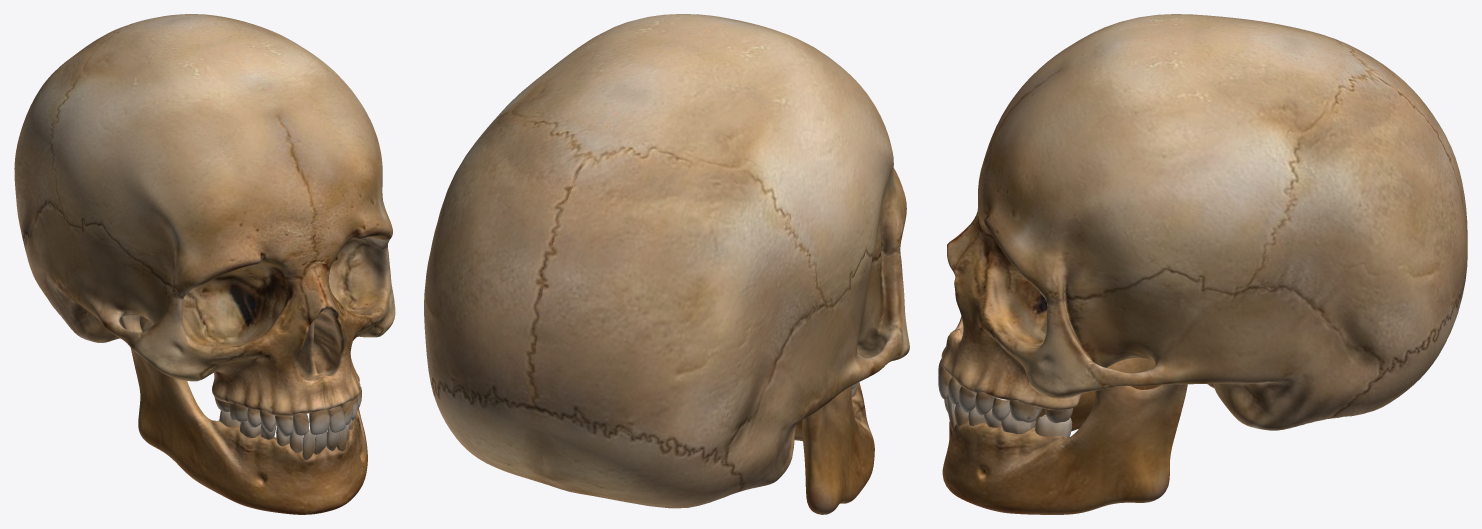
Rendered from human_skull.glb.
3 renders of one model, left to right at view 1: azimuth 30°, elevation 25°; view 2: azimuth 150°, elevation 25°; view 3: azimuth 270°, elevation 25°, orthographic. The views are drawn at different scales.
Parts seen in each view (by area): view 1: Object_2, Object_3, Object_4, Object_5; view 2: Object_2, Object_3; view 3: Object_2, Object_3, Object_4, Object_5.
Boxes of the visible parts, bbox=[...] form: Object_2: bbox=[14, 14, 395, 415]; Object_3: bbox=[120, 315, 367, 514]; Object_4: bbox=[214, 386, 361, 436]; Object_5: bbox=[219, 411, 352, 459]; Object_2: bbox=[424, 14, 909, 508]; Object_3: bbox=[794, 382, 874, 514]; Object_2: bbox=[941, 14, 1467, 430]; Object_3: bbox=[942, 358, 1187, 514]; Object_4: bbox=[938, 358, 1073, 423]; Object_5: bbox=[944, 395, 1072, 437].
Size of the model in its own units: 19.84 by 27.53 by 29.45.
Materials: 1 (1 with a texture image).
